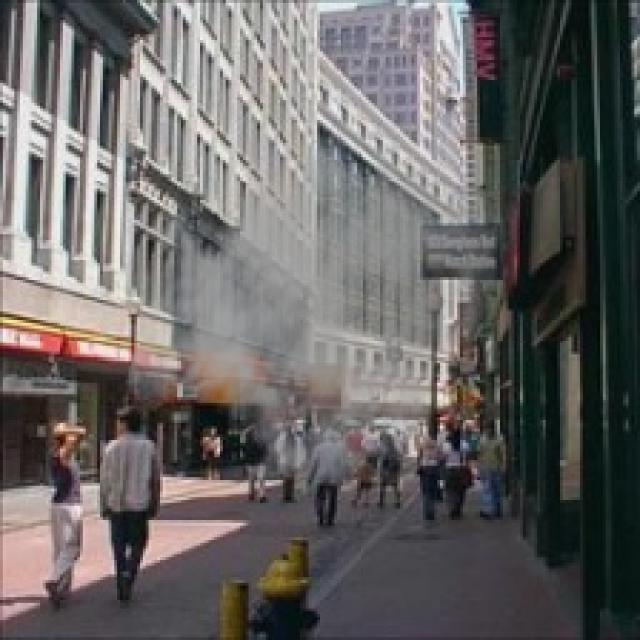smoke: (123, 106, 511, 503)
